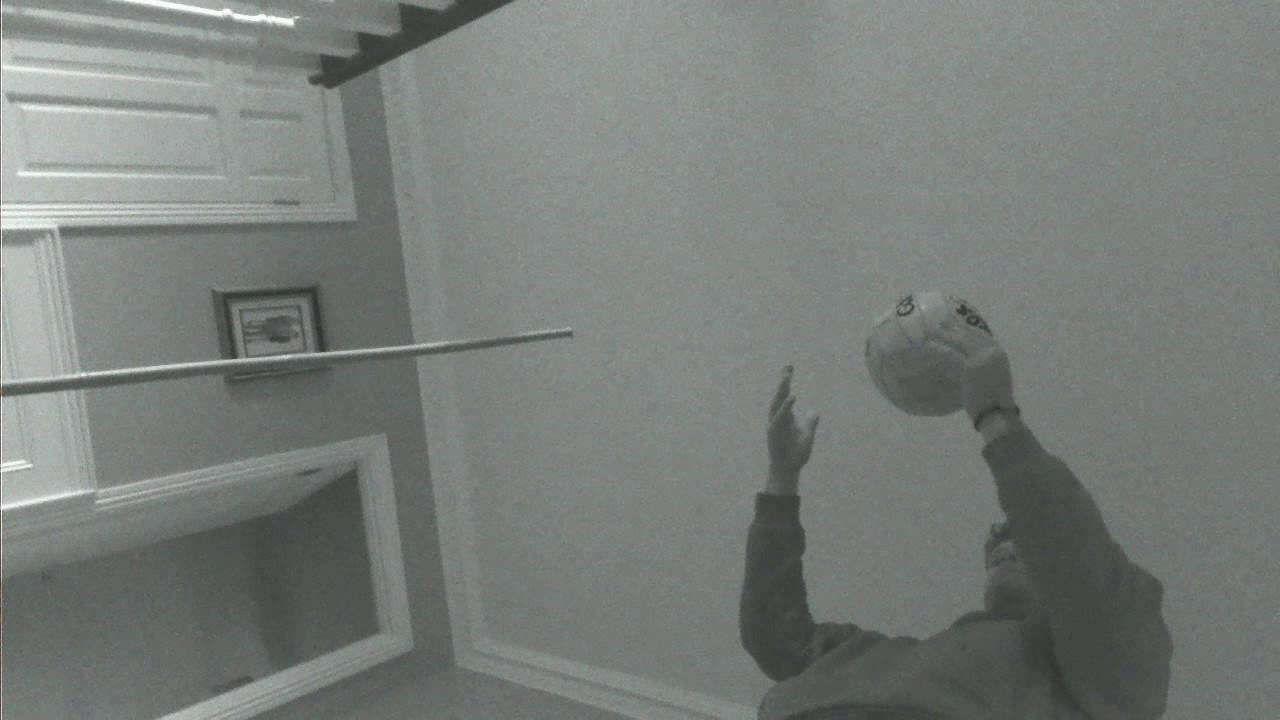Football-Spotter: (866, 291, 991, 415)
